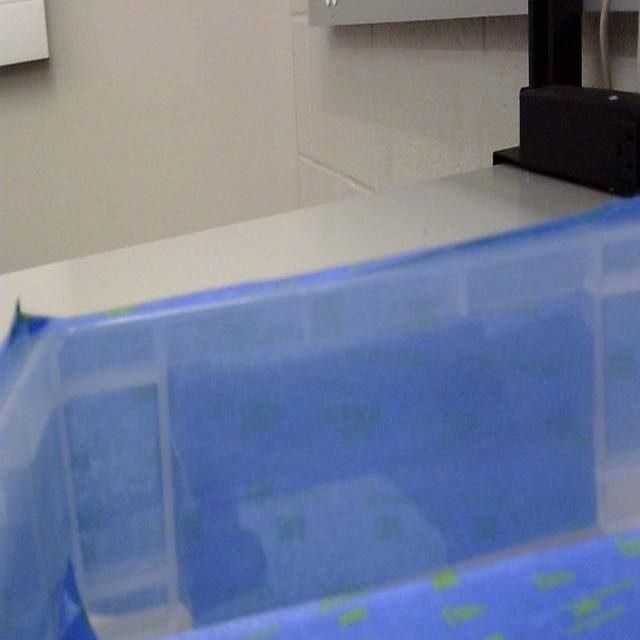bucket: (0, 184, 639, 640)
